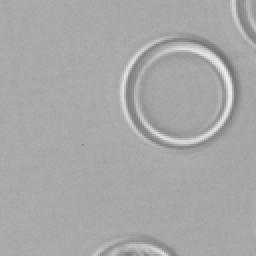picoshell: (120, 36, 234, 146), (92, 236, 174, 254), (230, 0, 254, 48)
